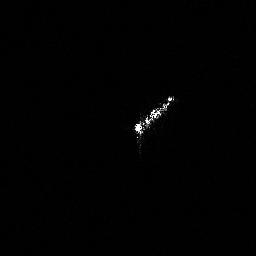ship: (132, 93, 176, 154)
